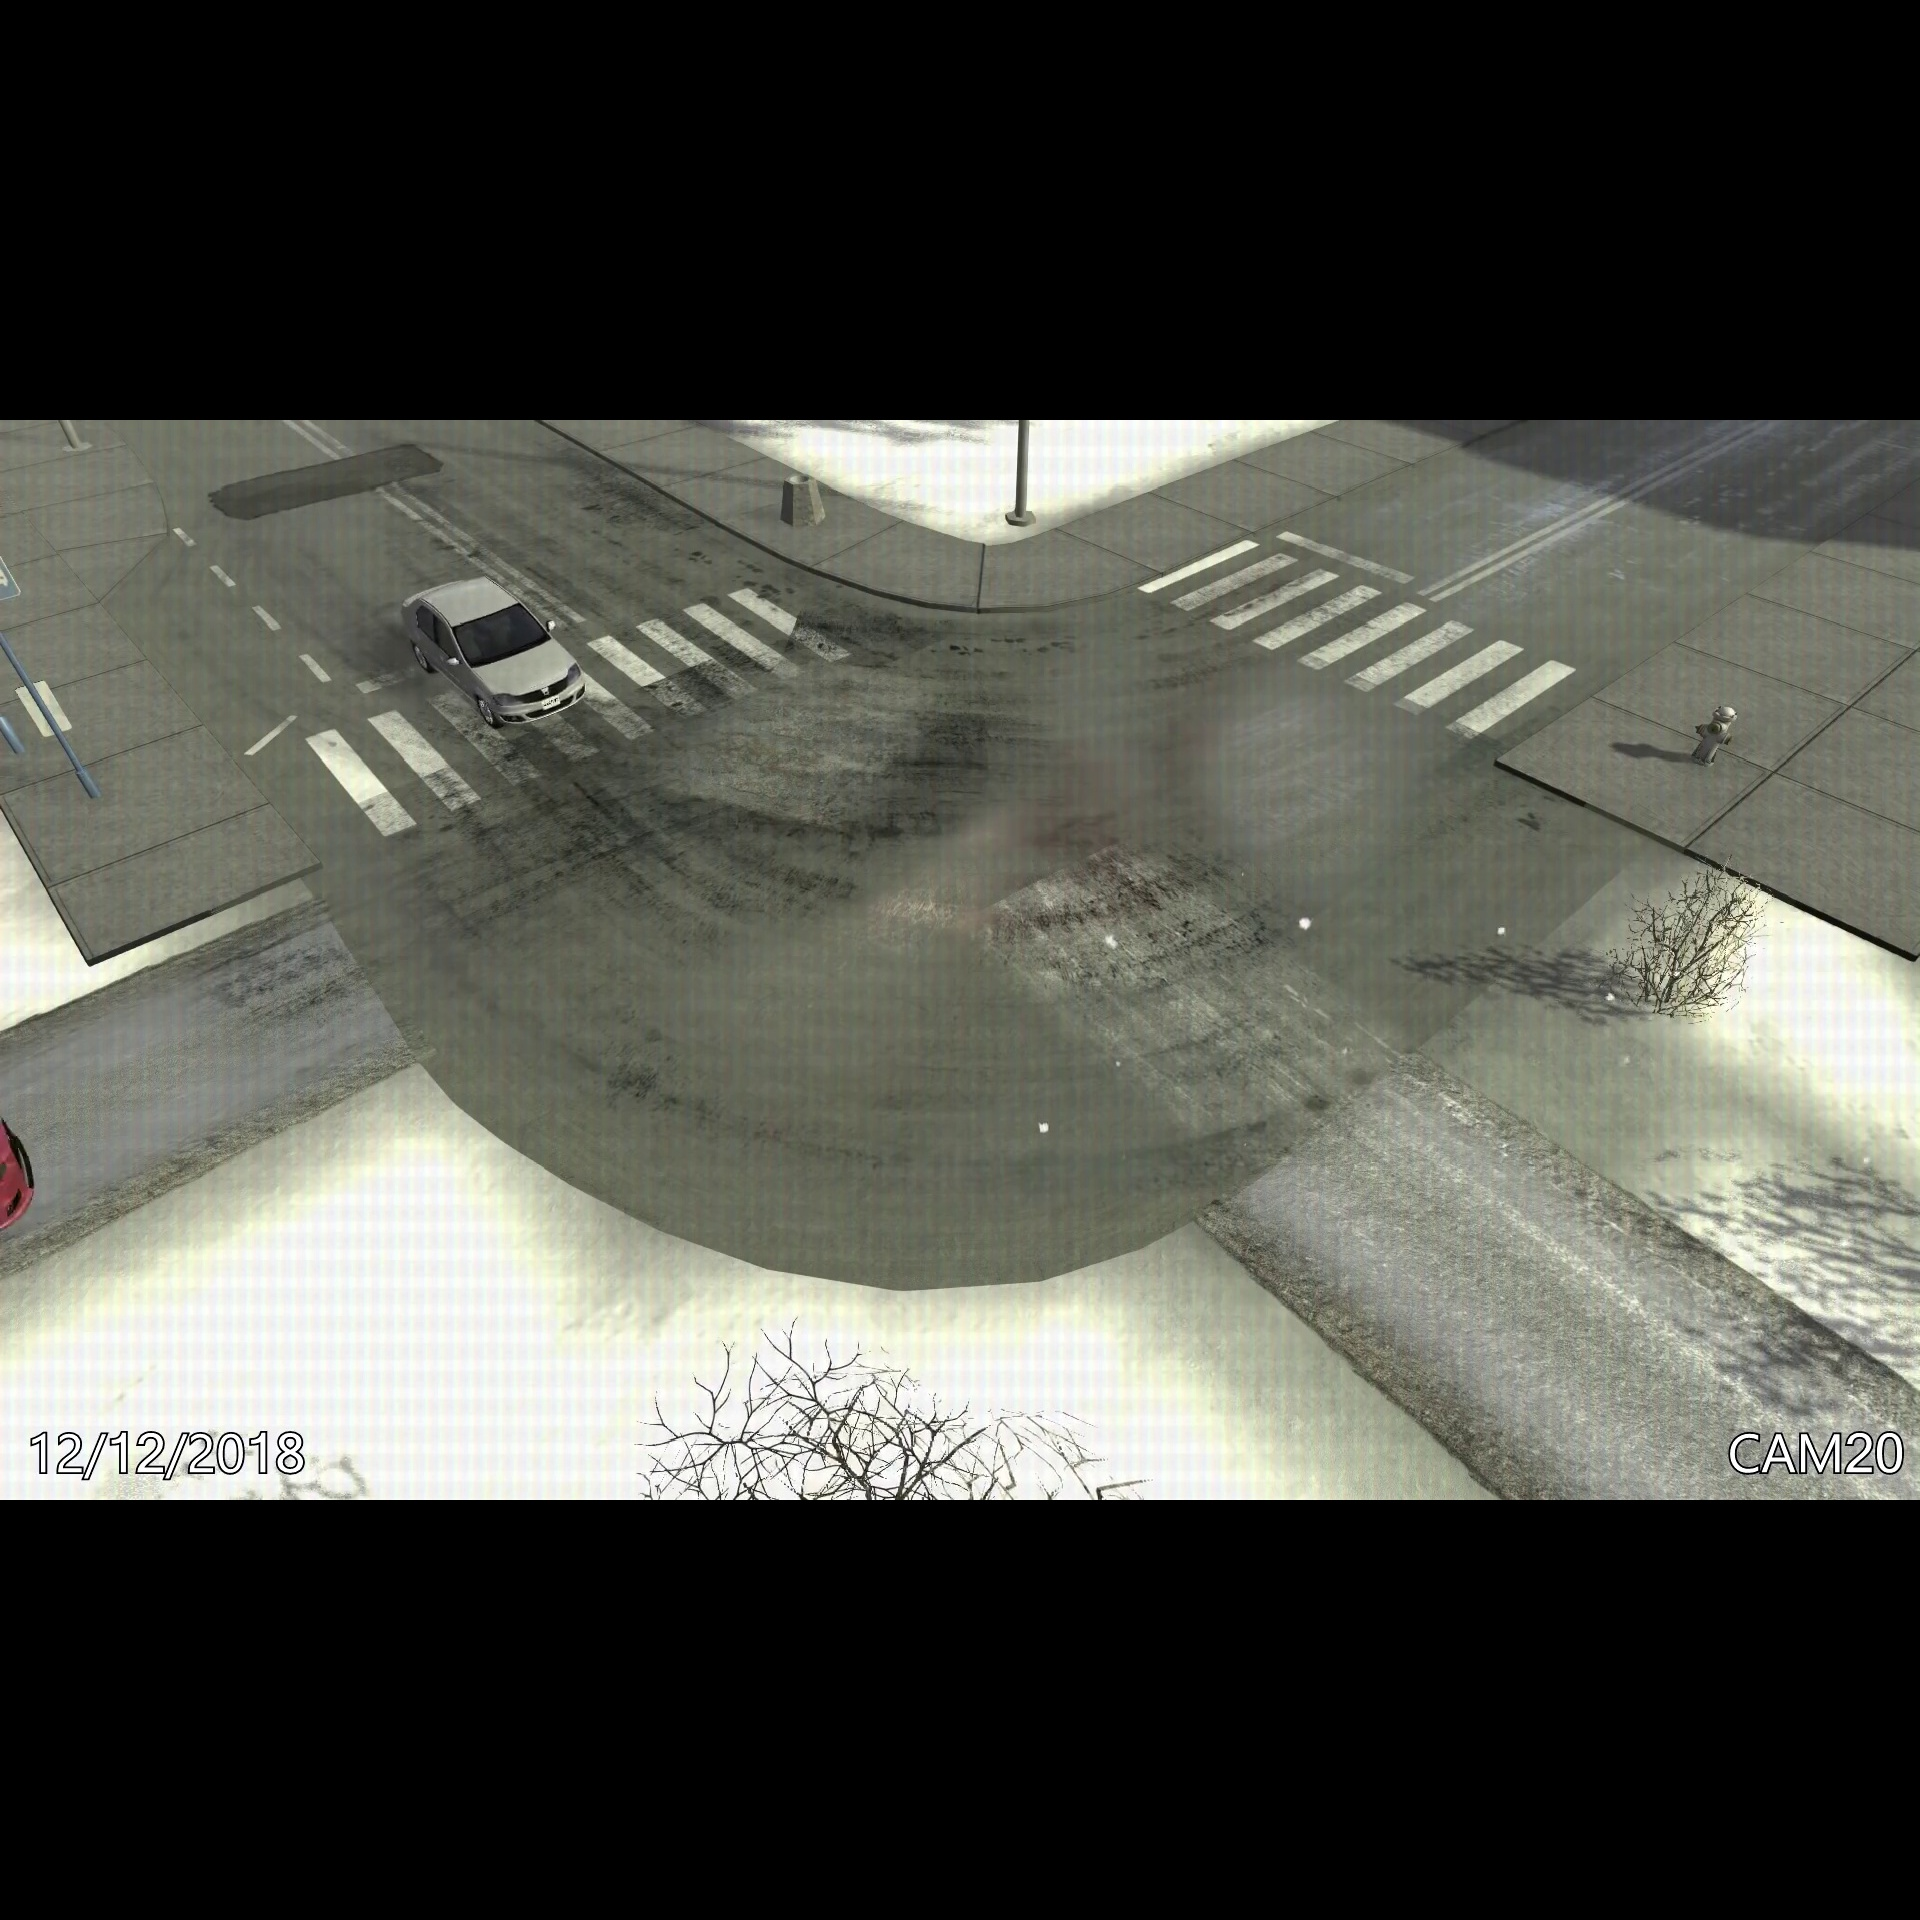vehicle: (397, 570, 593, 733)
